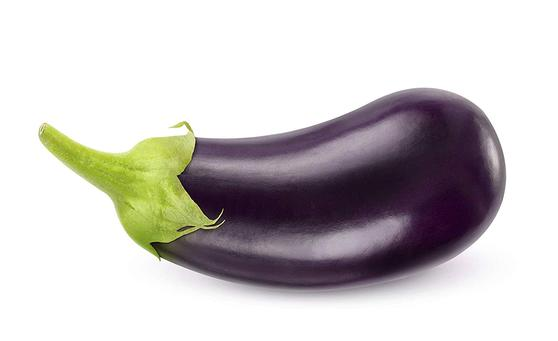eggplant: (29, 85, 521, 288)
